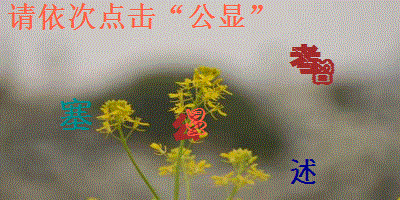result: (188, 2, 247, 29)
text: (57, 96, 94, 133), (286, 154, 320, 188), (288, 42, 321, 76), (171, 112, 204, 142), (309, 57, 337, 85), (185, 107, 209, 138)
